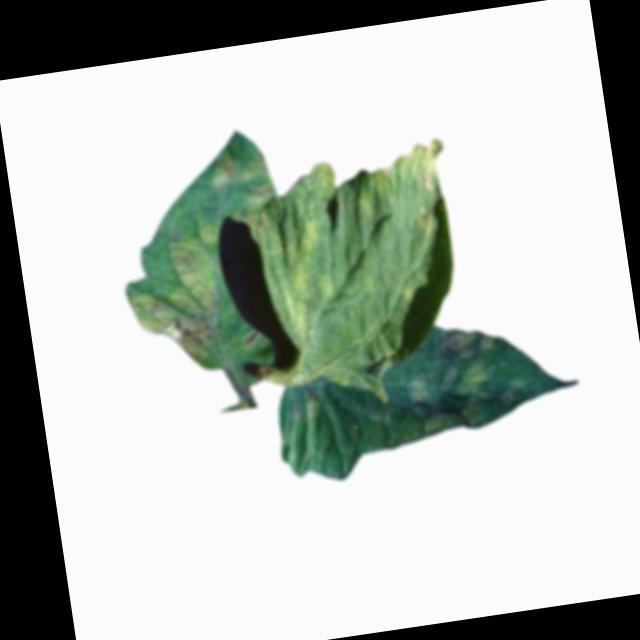Leaf_Mold: (121, 224, 236, 366), (402, 316, 526, 438), (275, 215, 342, 340), (368, 133, 449, 202), (204, 144, 279, 208), (407, 203, 436, 234)
